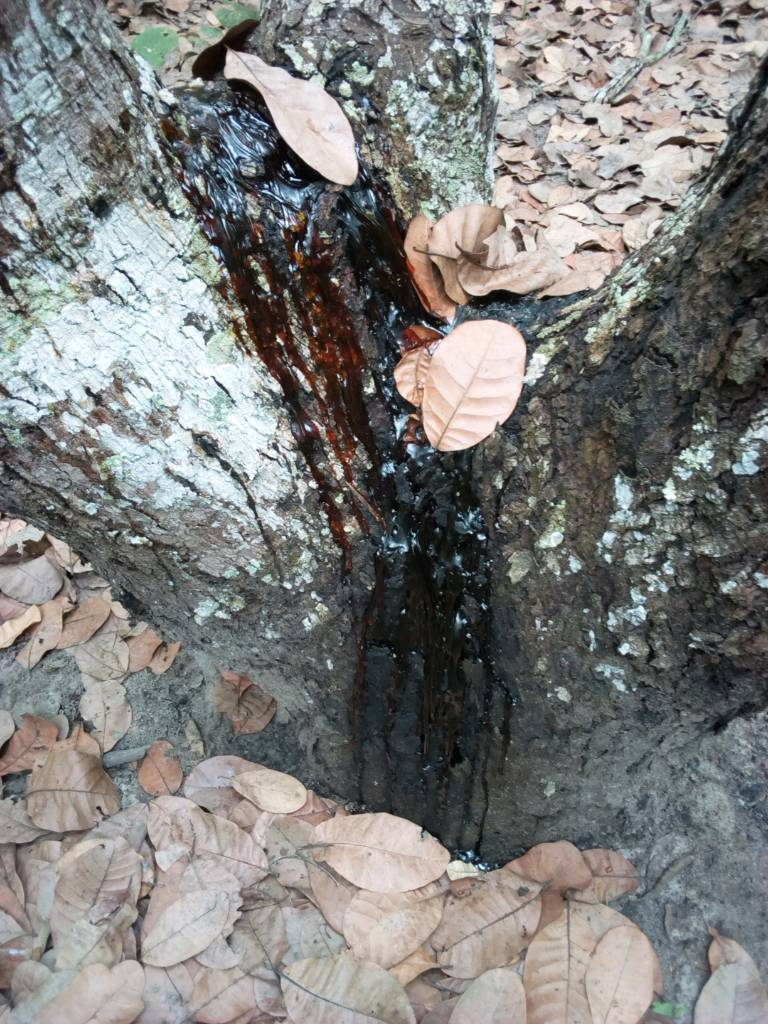Gommose: (197, 86, 516, 797)
